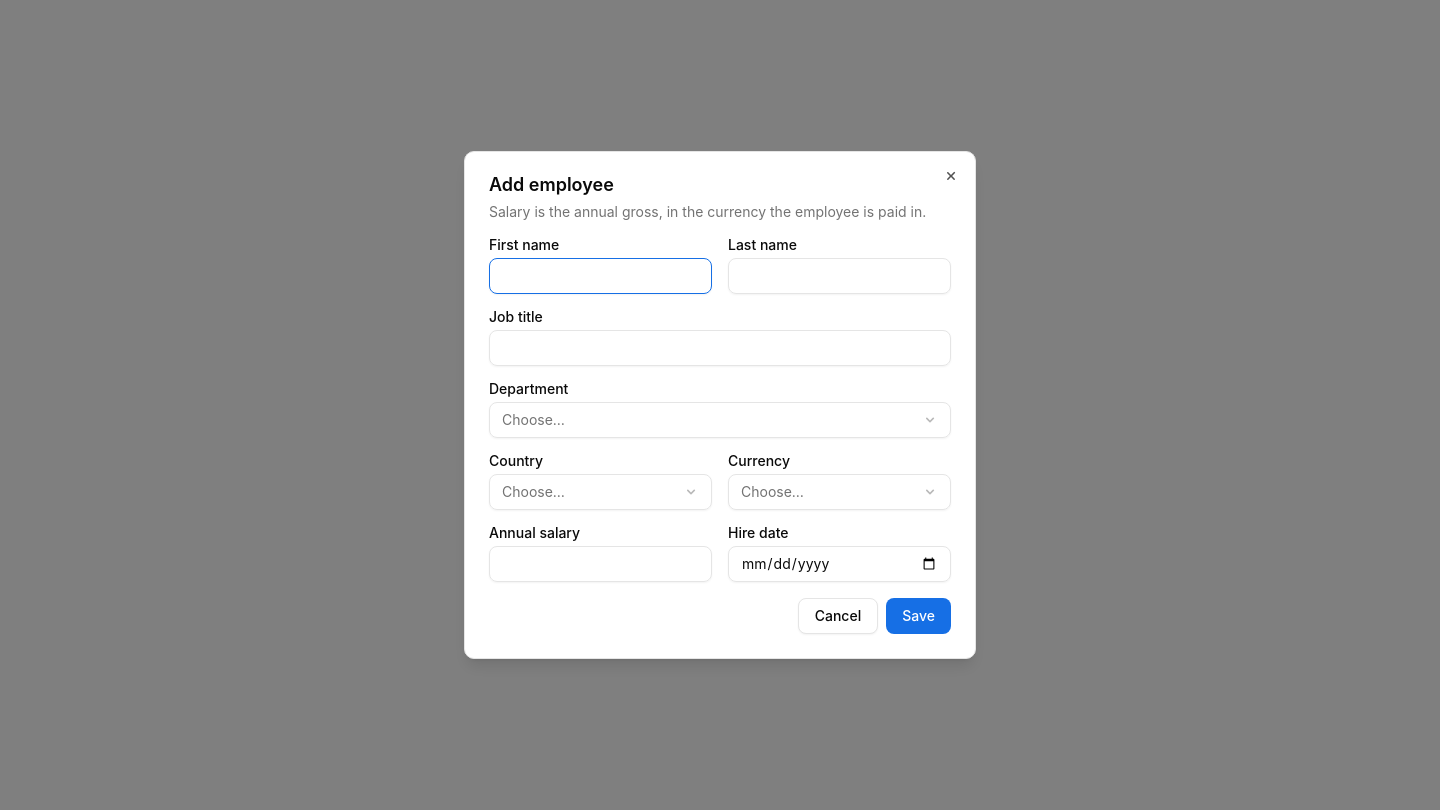
Scenario: EmployeeFormDialog › pre-fills the country's usual currency, which can still be changed
Press Enter in the dropdown named "Country", box [489, 474, 712, 510]
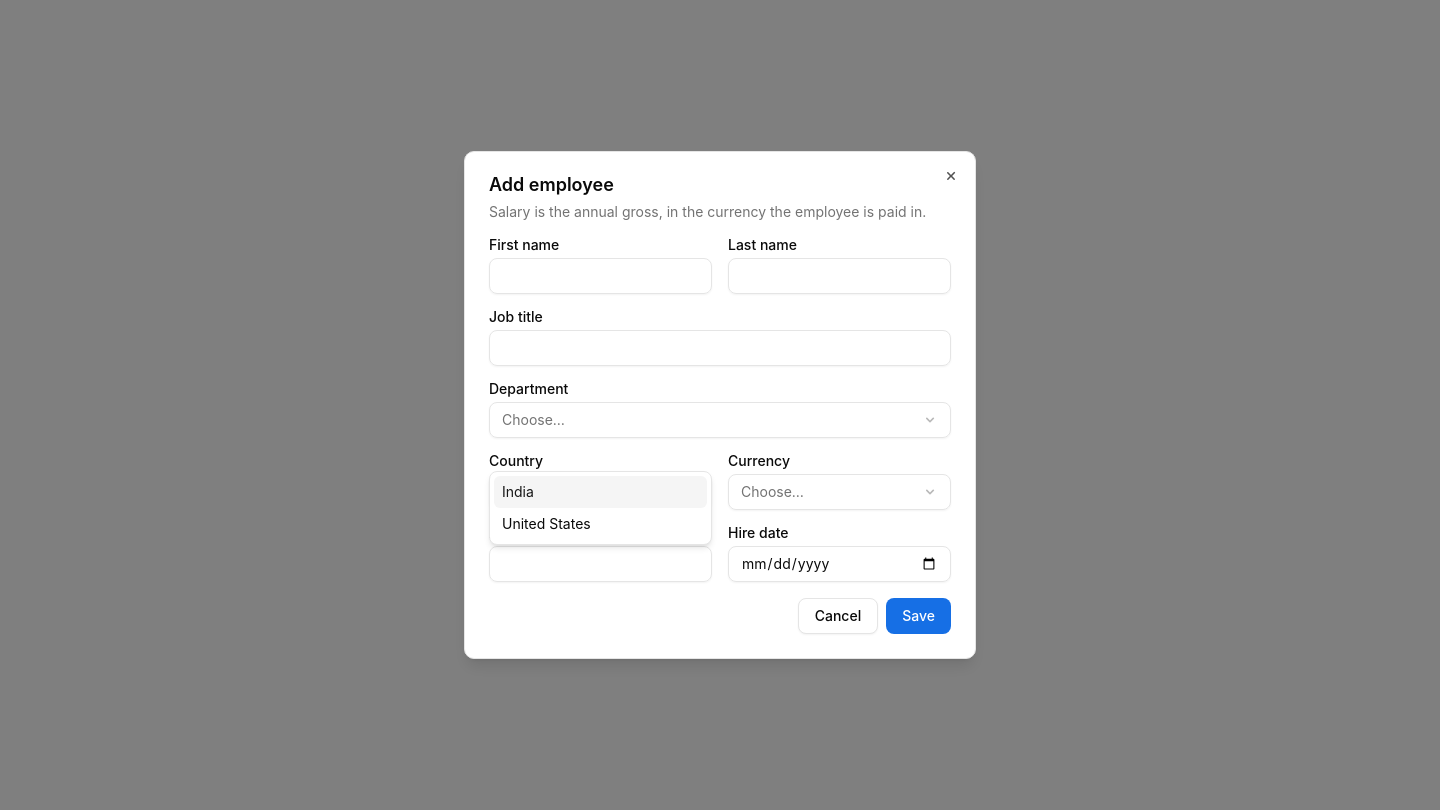
Click the option "India" at (600, 492), box [494, 476, 707, 508]
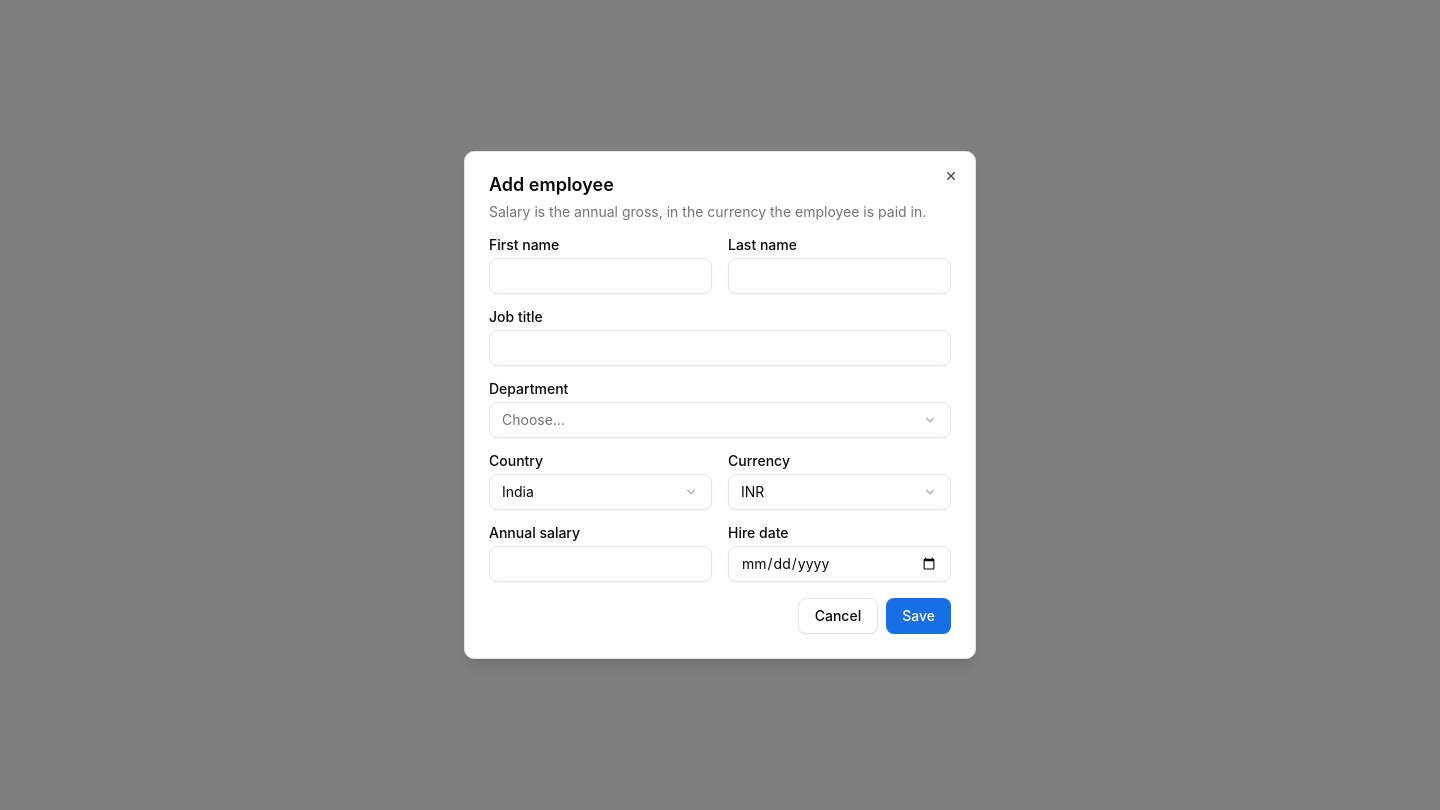
expect the dropdown named "Currency" reads "INR": met
Press Enter in the dropdown named "Currency", box [728, 474, 951, 510]
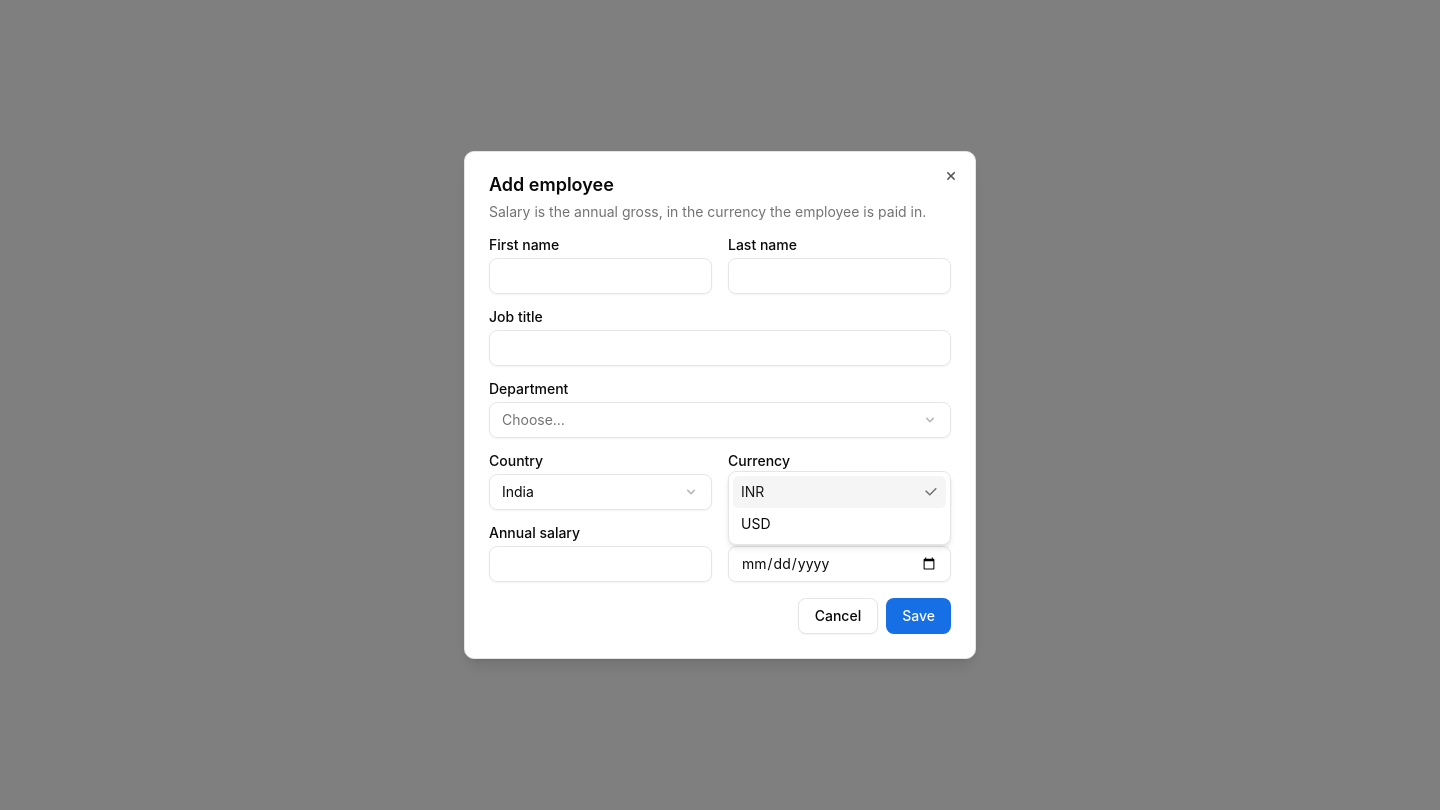
Click the option "USD" at (756, 524), box [741, 515, 770, 532]
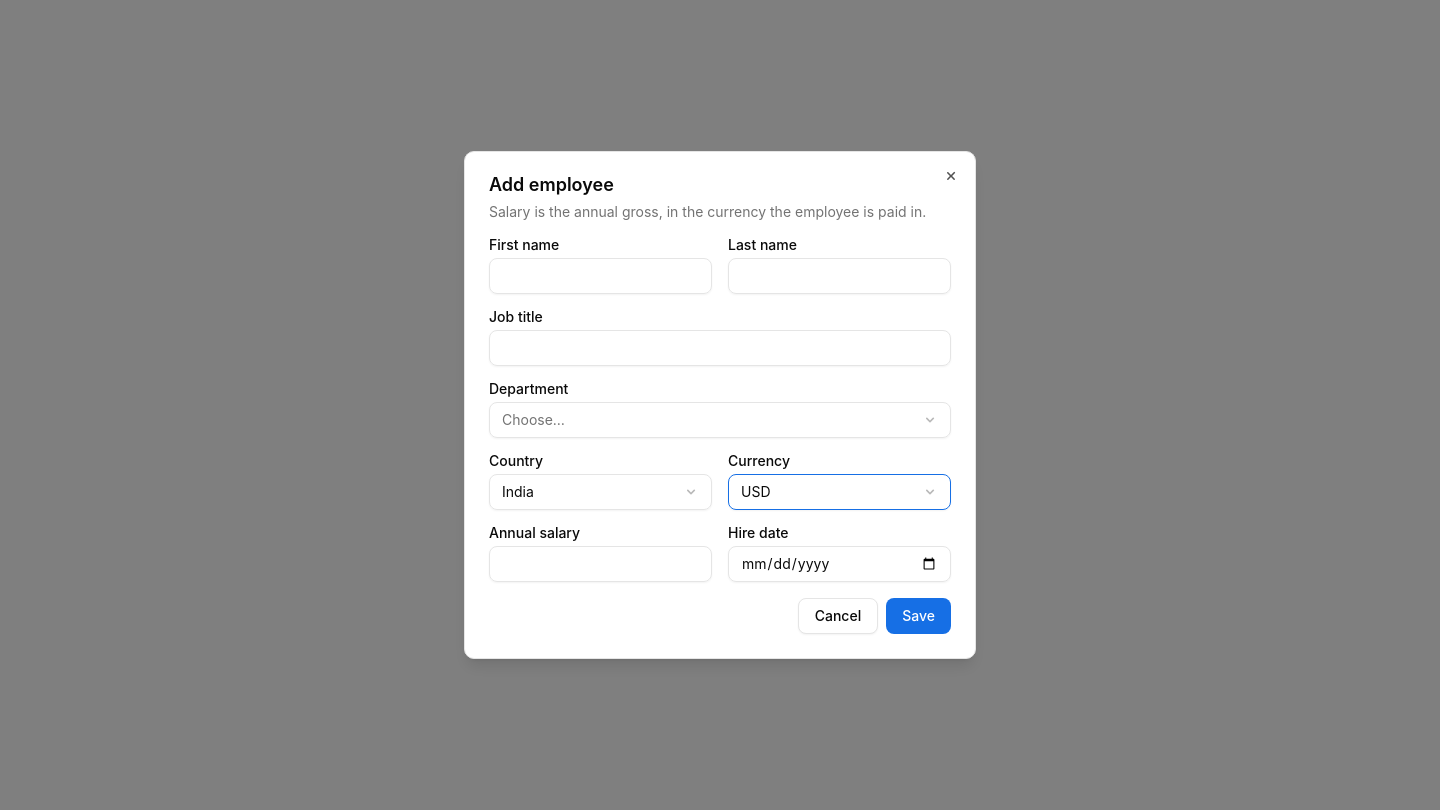
expect the dropdown named "Currency" reads "USD": met, box [728, 474, 951, 510]
